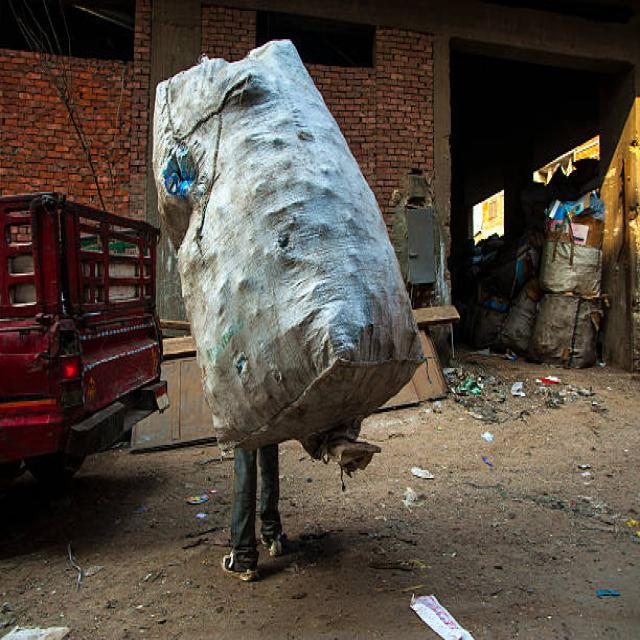trash: (139, 66, 391, 502), (478, 217, 616, 371)
